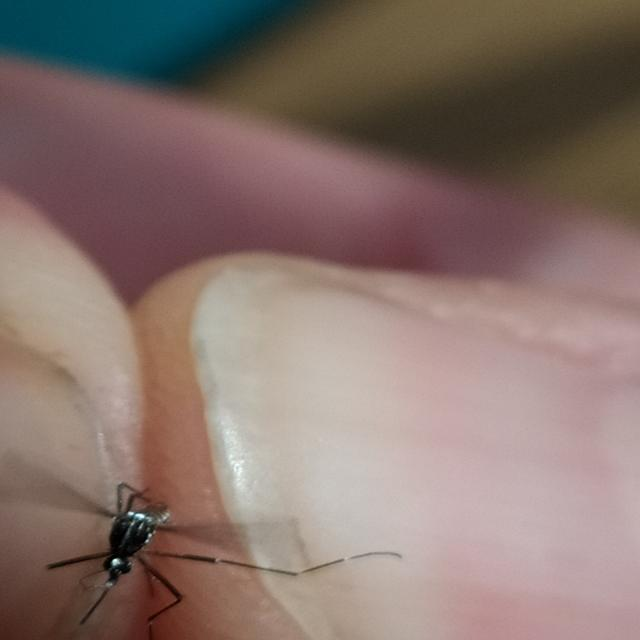albopictus: (46, 467, 360, 621)
